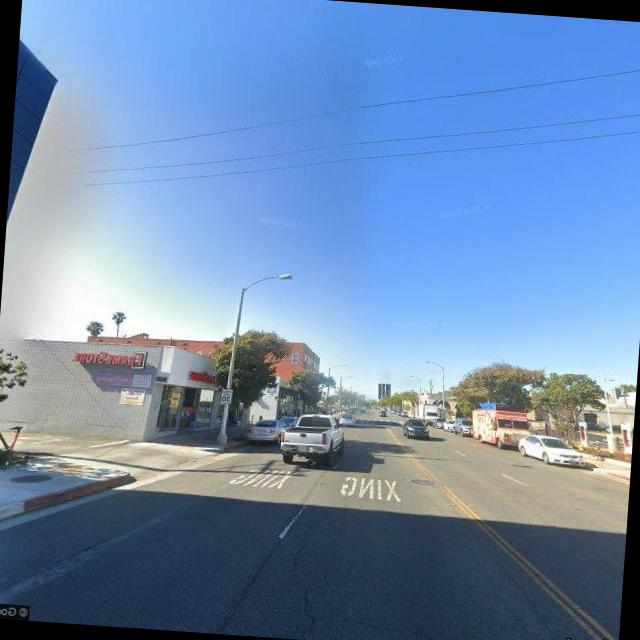pothole: (280, 525, 330, 640)
